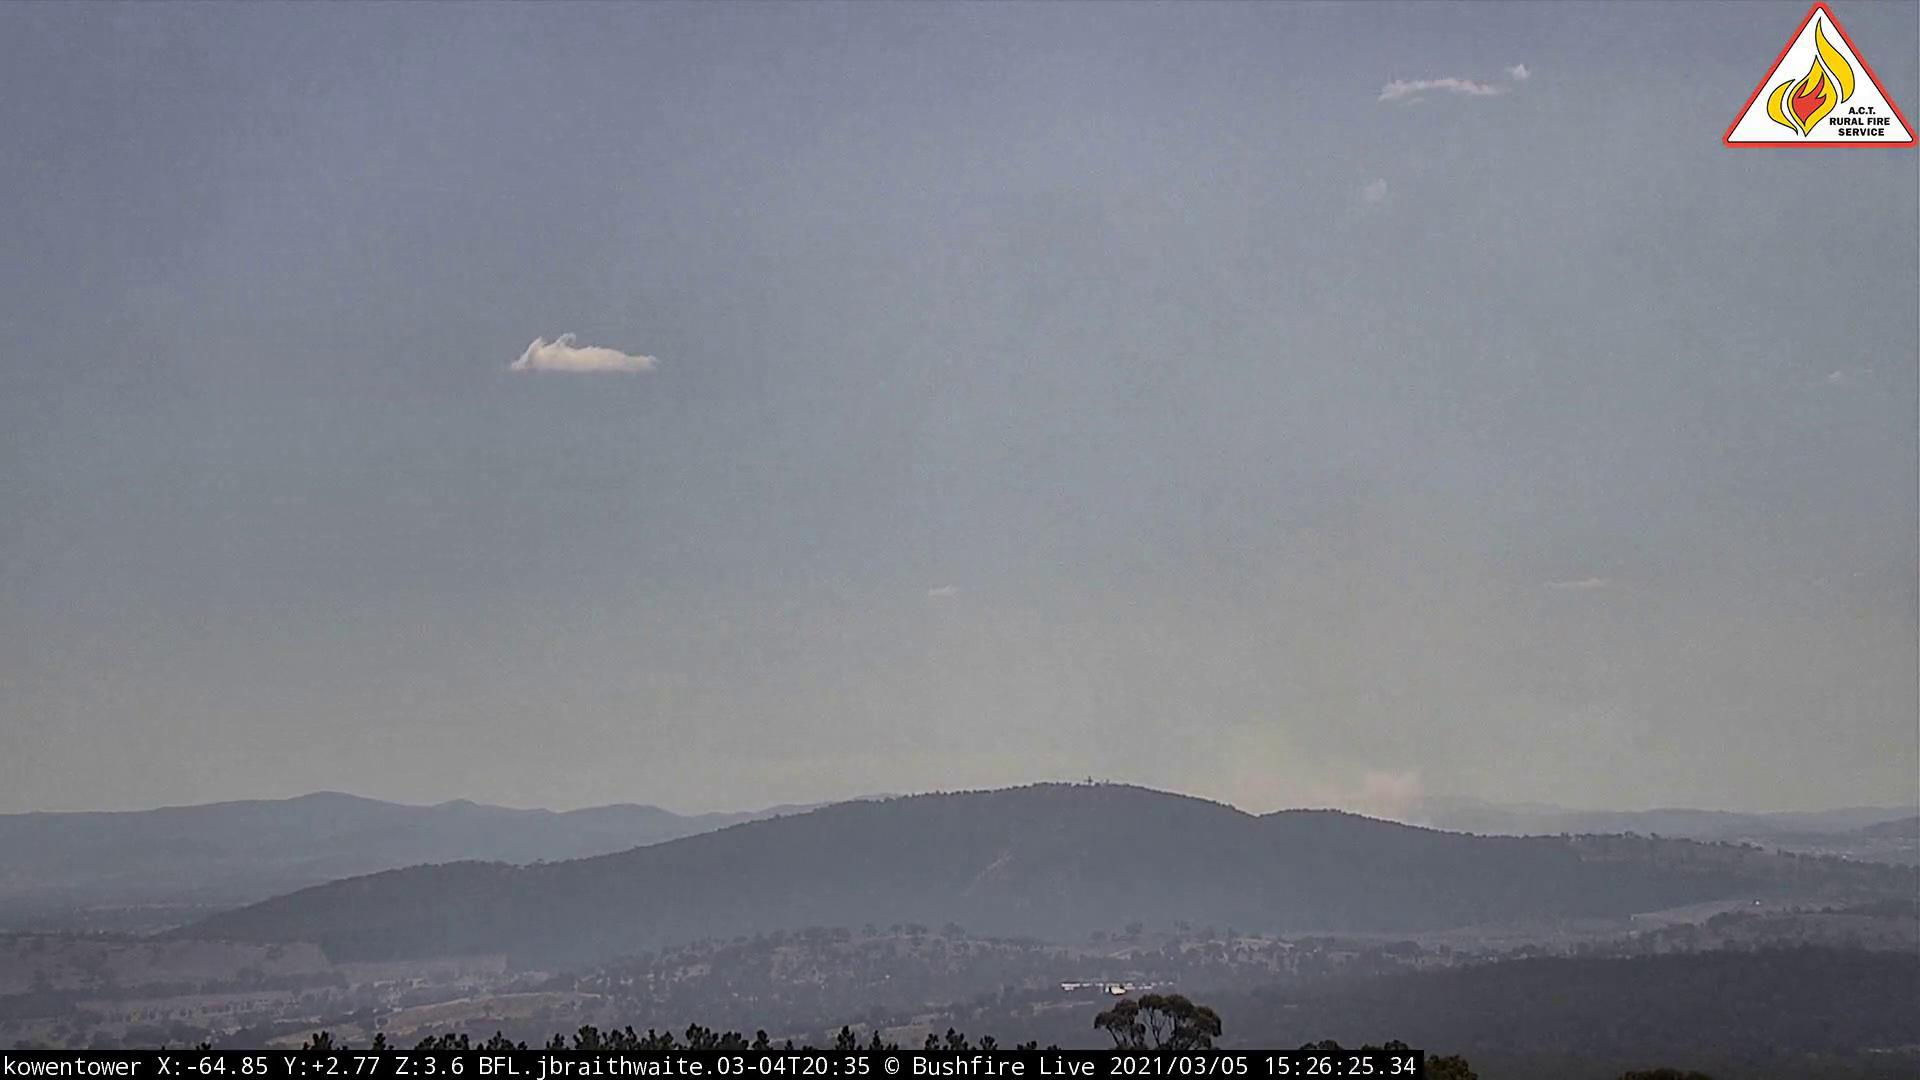instance_salient_object: (636, 498, 1535, 851)
